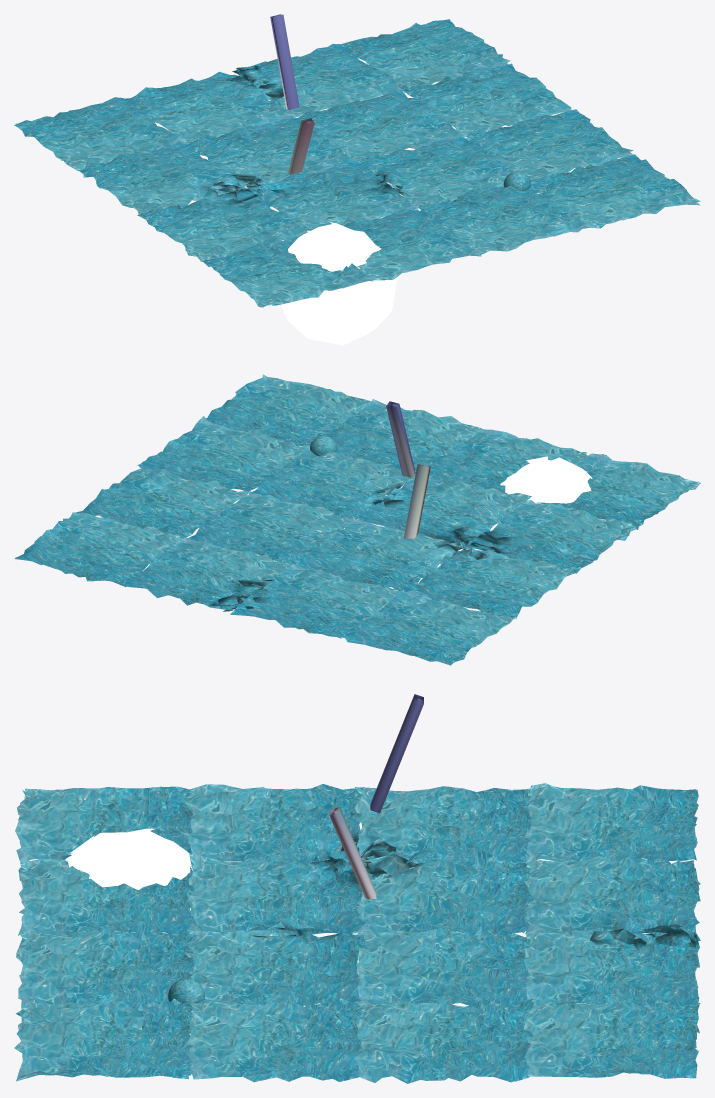
Rendered from stamp02.glb.
3 renders of one model, top to bottom at view 1: azimuth 30°, elevation 25°; view 2: azimuth 150°, elevation 25°; view 3: azimuth 270°, elevation 25°, orthographic. The views are drawn at different scales.
Visible parts, largest first — view 1: Grid.031, Icosphere, Cube.001, Cube; view 2: Grid.031, Icosphere, Cube.001, Cube; view 3: Grid.031, Icosphere, Cube.001, Cube.
Part boxes in pixels (bbox=[...]): Grid.031: bbox=[14, 19, 700, 307]; Icosphere: bbox=[281, 222, 397, 345]; Cube.001: bbox=[270, 14, 299, 109]; Cube: bbox=[288, 118, 314, 174]; Grid.031: bbox=[14, 374, 700, 665]; Icosphere: bbox=[490, 456, 605, 531]; Cube.001: bbox=[386, 401, 415, 477]; Cube: bbox=[404, 464, 430, 538]; Grid.031: bbox=[14, 783, 700, 1083]; Icosphere: bbox=[65, 828, 192, 933]; Cube.001: bbox=[370, 694, 423, 813]; Cube: bbox=[330, 807, 376, 899].
Size of the model in its own units: 8.17 by 4.17 by 8.09.
4 materials, 1 textured.
